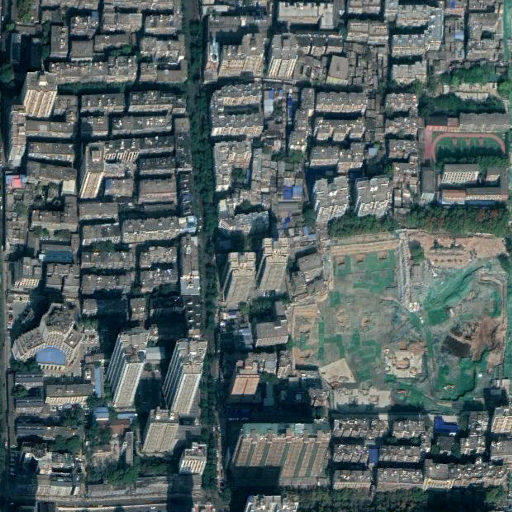cw: (293, 231, 507, 406)
